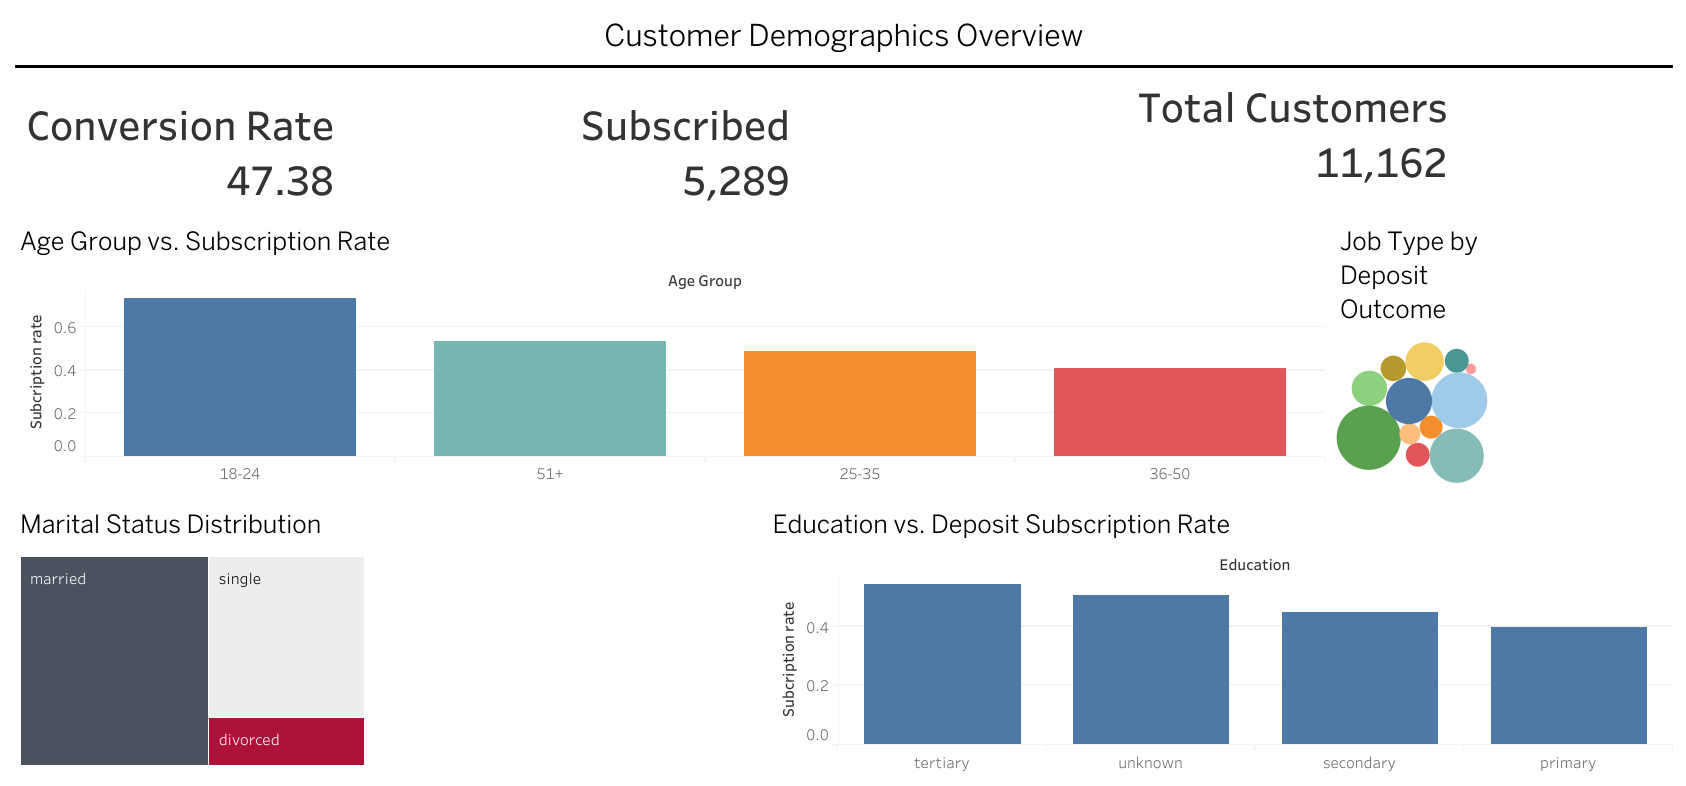

This screenshot's page, from the dashboard's own definition file:
{"tool":"tableau","page":{"name":"Customer Demographics Overview","canvas":[1000,1000],"units":"permille","ordinal":1},"visuals":[{"type":"title","box":[5.9,9.8,988.1,56.6]},{"type":"blank","box":[5.9,66.5,988.1,12.3]},{"type":"worksheet","title":"Conversion rate","mark":"Automatic","box":[5.9,78.8,329.6,163.8]},{"type":"worksheet","title":"Subscribed","mark":"Automatic","box":[335.6,78.8,329.6,163.8]},{"type":"worksheet","title":"Total Customers","mark":"Automatic","box":[665.2,78.8,328.9,163.8]},{"type":"worksheet","title":"Age Group vs. Subscription Rate","mark":"Bar","rows":["Calculation_1377820076493996033"],"cols":["Calculation_1377820076488491008"],"box":[5.9,242.6,782.2,369.5]},{"type":"worksheet","title":"Job Type by Deposit Outcome","mark":"Circle","box":[788.1,242.6,205.9,369.5]},{"type":"worksheet","title":"Marital Status Distribution","mark":"Automatic","box":[5.9,612.1,445.9,378.1]},{"type":"worksheet","title":"Education vs. Deposit Subscription Rate","mark":"Automatic","rows":["Calculation_1377820076493996033"],"cols":["education"],"box":[451.9,612.1,542.2,378.1]}]}

Visuals, with their boxes on the dashboard's canvas, which has no fixed pixel size, in thousandths of its width and height (x1, y1, x2, y2). These are canvas units, not pixel positions in the 1686x786 screenshot, which may show the page scaled, cropped or inside an application window:
title: x1=6 y1=10 x2=994 y2=66
blank: x1=6 y1=66 x2=994 y2=79
"Conversion rate" worksheet: x1=6 y1=79 x2=336 y2=243
"Subscribed" worksheet: x1=336 y1=79 x2=665 y2=243
"Total Customers" worksheet: x1=665 y1=79 x2=994 y2=243
"Age Group vs. Subscription Rate" worksheet (Bar marks): x1=6 y1=243 x2=788 y2=612
"Job Type by Deposit Outcome" worksheet (Circle marks): x1=788 y1=243 x2=994 y2=612
"Marital Status Distribution" worksheet: x1=6 y1=612 x2=452 y2=990
"Education vs. Deposit Subscription Rate" worksheet: x1=452 y1=612 x2=994 y2=990
